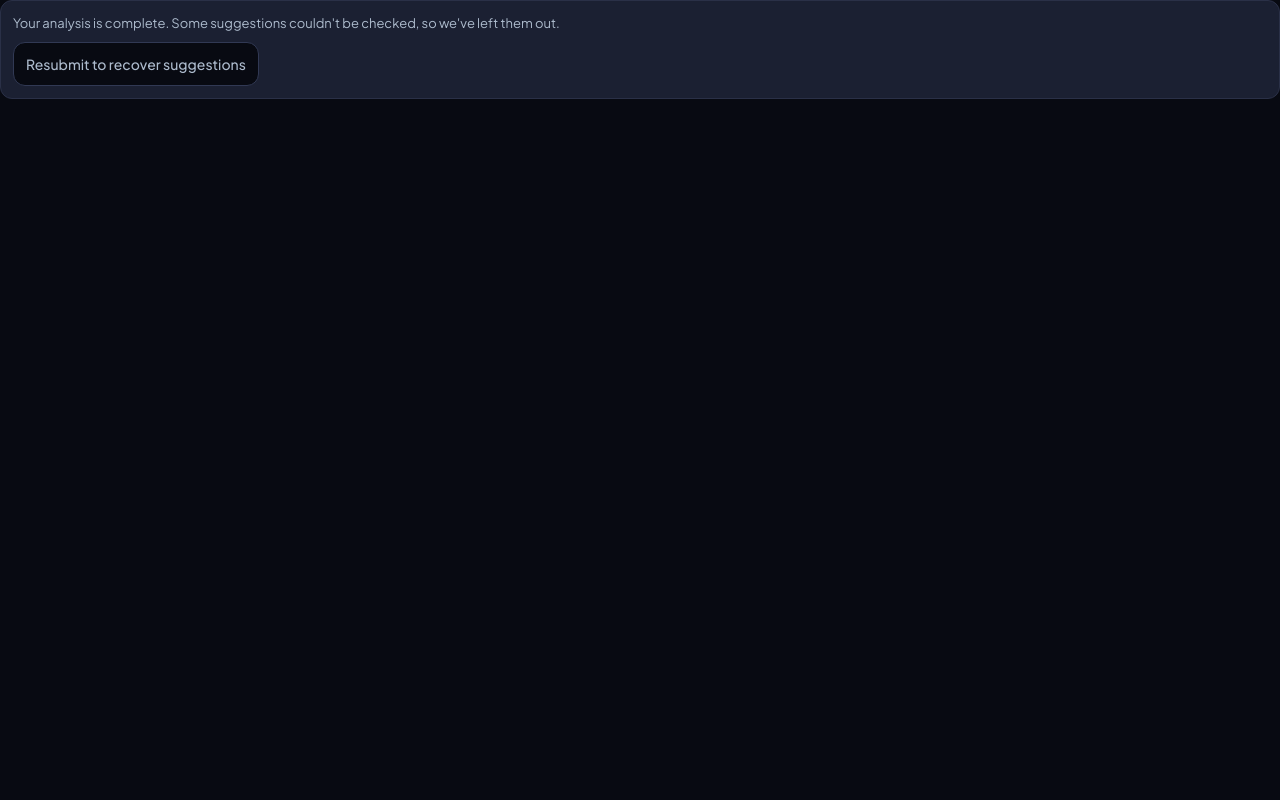
Test: AdviceReviewNotice › explains why resubmission is needed and that it is free
Click the button "Resubmit to recover suggestions": [136, 64] box [13,42,259,86]
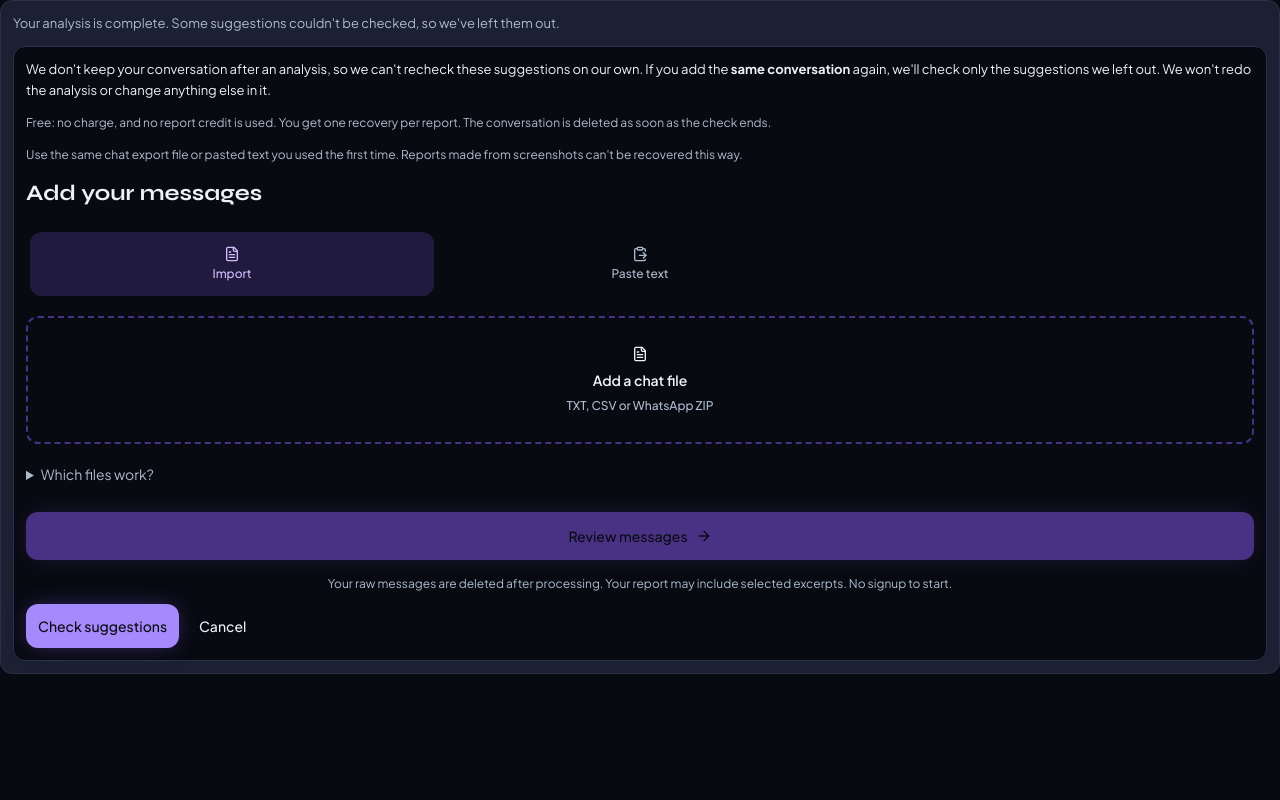
expect the text "don't keep your conversation" is shown: met, box [26,61,728,77]
expect the text "no charge, and no report credit" is shown: met, box [26,115,771,130]
